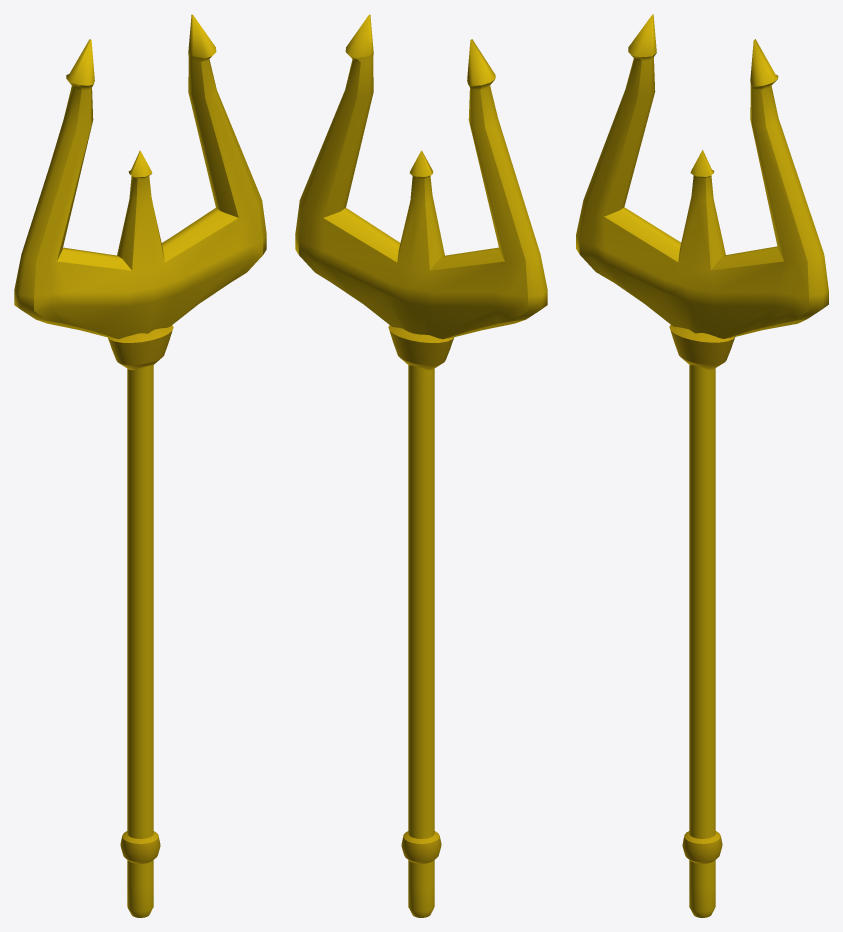
Rendered from Dreizack.fbx.
3 renders of one model, left to right at view 1: azimuth 30°, elevation 25°; view 2: azimuth 150°, elevation 25°; view 3: azimuth 330°, elevation 25°, orthographic.
Visible parts, largest first — view 1: poly_Dreizack1; view 2: poly_Dreizack1; view 3: poly_Dreizack1.
Part boxes in pixels (x1,y1,x2,y2): poly_Dreizack1: (14,14,266,917); poly_Dreizack1: (295,14,547,917); poly_Dreizack1: (576,14,828,917).
Bounding box in the file's own units: 3.3 × 11.35 × 0.6456.
